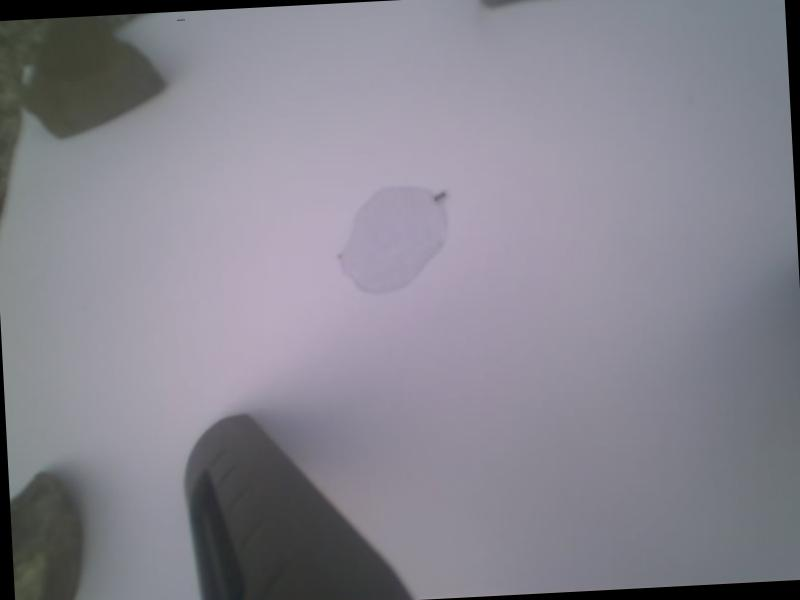Ant: (434, 192, 447, 202)
